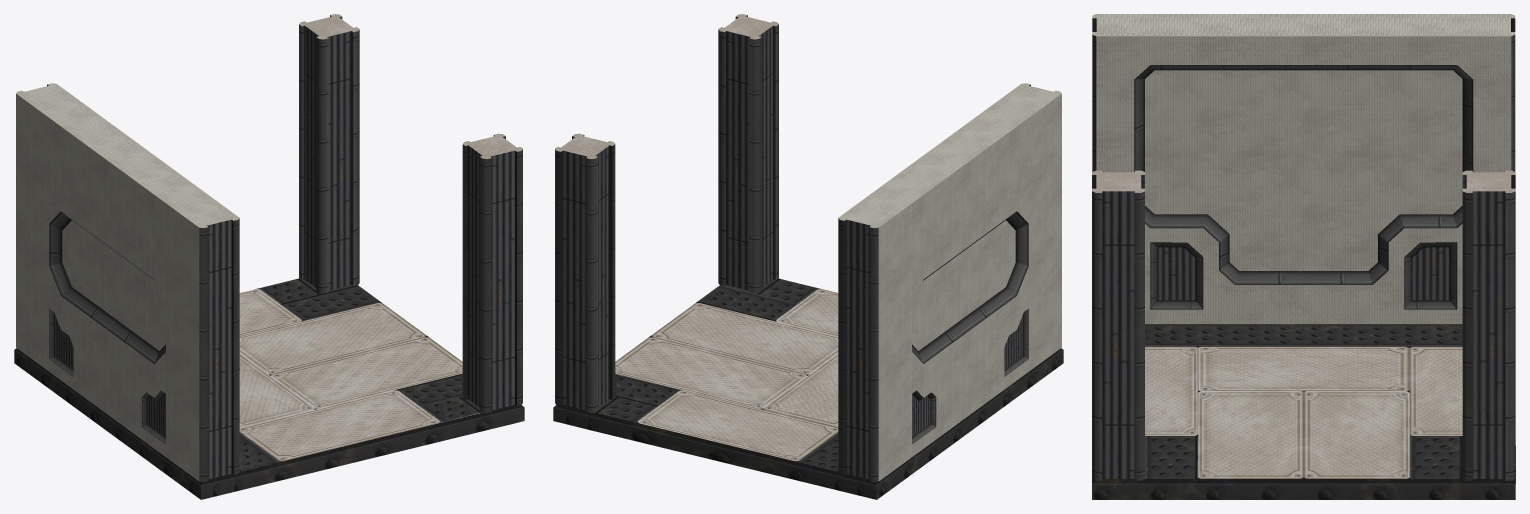
File: Corridor_Fork_Rework.fbx
3 views of the same model, side by side, from view 1: azimuth 30°, elevation 25°; view 2: azimuth 150°, elevation 25°; view 3: azimuth 270°, elevation 25° (orthographic). The views are drawn at different scales.
Visible parts, largest first — view 1: Corridor_Fork_Rework; view 2: Corridor_Fork_Rework; view 3: Corridor_Fork_Rework.
Boxes of the visible parts, <box> form: Corridor_Fork_Rework: <box>14,14,524,499</box>; Corridor_Fork_Rework: <box>553,14,1063,499</box>; Corridor_Fork_Rework: <box>1092,14,1515,499</box>.
Size of the model in its own units: 400 by 320 by 400.
